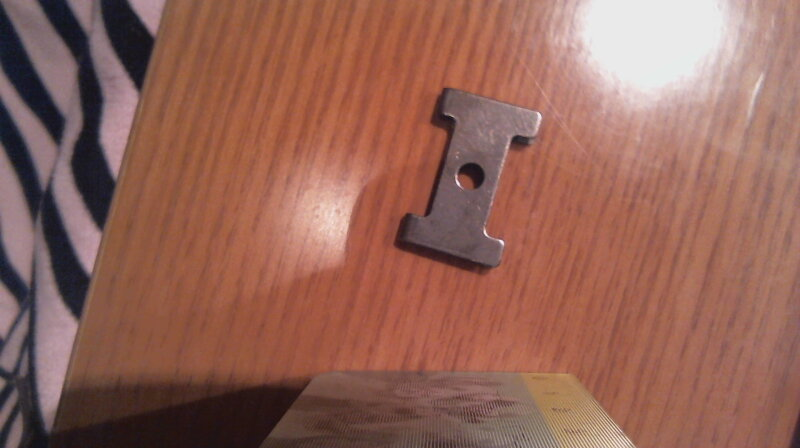O002: (394, 85, 543, 270)
